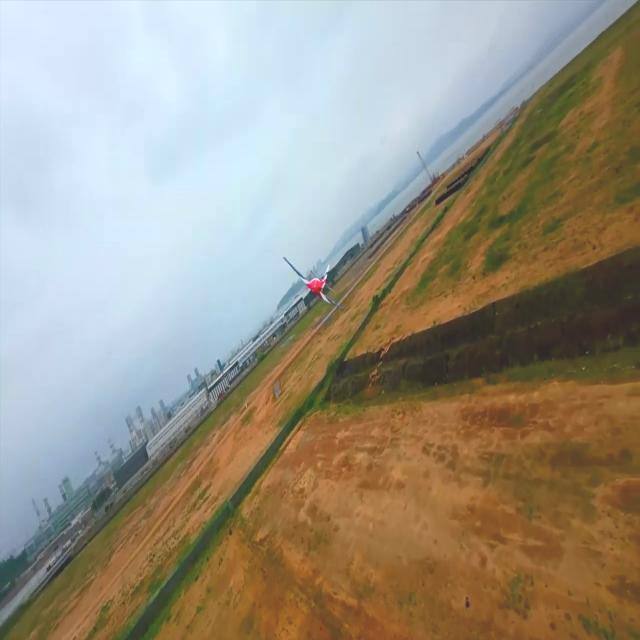iha: (226, 264, 379, 320)
